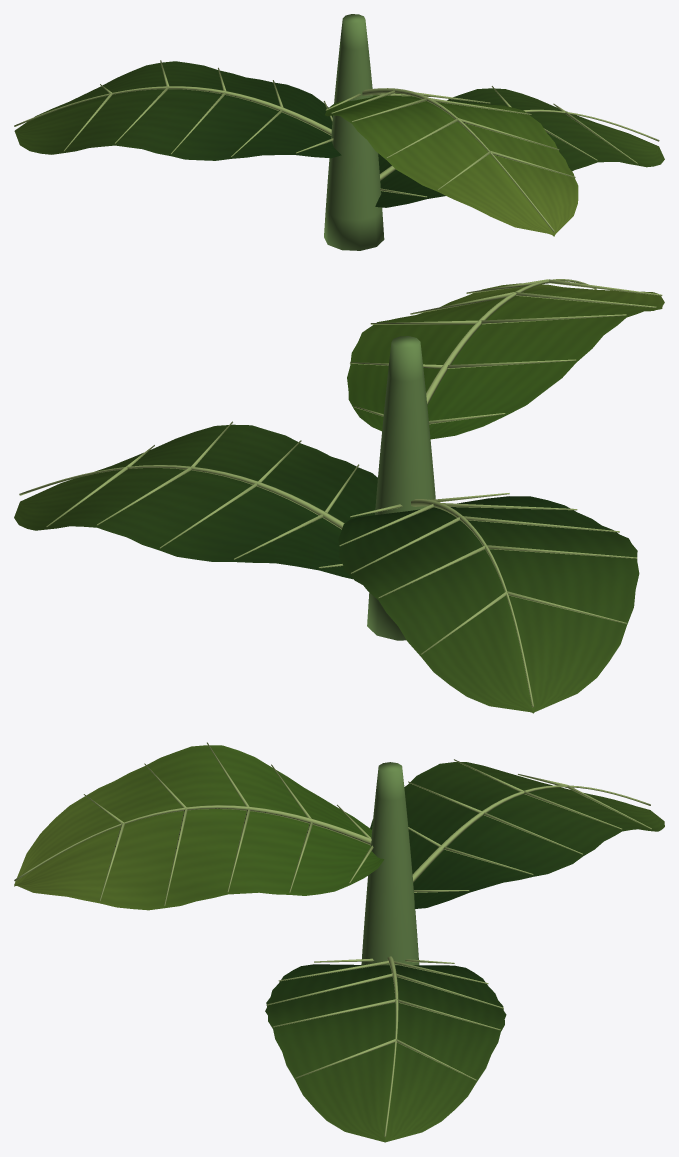
Rendered from daisy-02.glb.
The picture shows the model from 3 angles, top to bottom: view 1: azimuth 30°, elevation 25°; view 2: azimuth 150°, elevation 25°; view 3: azimuth 270°, elevation 25°; orthographic projection. The views are drawn at different scales.
Parts seen in each view (by area): view 1: daisy_stage_02_leaf_veins.002, daisy_stage_02_young_leaf.002, daisy_stage_02_stem_fibres.002, daisy_stage_02_raised_midveins.002; view 2: daisy_stage_02_leaf_veins.002, daisy_stage_02_young_leaf.002, daisy_stage_02_raised_midveins.002, daisy_stage_02_stem_fibres.002; view 3: daisy_stage_02_leaf_veins.002, daisy_stage_02_young_leaf.002, daisy_stage_02_raised_midveins.002, daisy_stage_02_stem_fibres.002.
Boxes of the visible parts, <box> form: daisy_stage_02_leaf_veins.002: <box>14,61,664,207</box>; daisy_stage_02_young_leaf.002: <box>325,93,578,236</box>; daisy_stage_02_stem_fibres.002: <box>324,14,384,250</box>; daisy_stage_02_raised_midveins.002: <box>14,60,659,231</box>; daisy_stage_02_leaf_veins.002: <box>14,424,639,713</box>; daisy_stage_02_young_leaf.002: <box>347,283,664,439</box>; daisy_stage_02_raised_midveins.002: <box>19,279,662,707</box>; daisy_stage_02_stem_fibres.002: <box>367,336,435,640</box>; daisy_stage_02_leaf_veins.002: <box>265,762,664,1142</box>; daisy_stage_02_young_leaf.002: <box>14,745,384,910</box>; daisy_stage_02_raised_midveins.002: <box>14,742,651,1136</box>; daisy_stage_02_stem_fibres.002: <box>361,762,419,965</box>.
Bounding box in the file's own units: 0.082 × 0.0319 × 0.0794.
4 materials, 2 textured.
